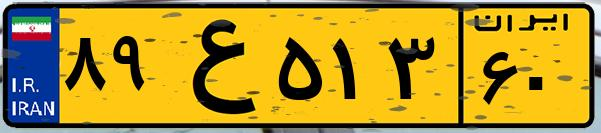0: (525, 38, 570, 115)
1: (330, 28, 385, 110)
3: (385, 28, 445, 110)
5: (270, 28, 330, 110)
6: (475, 38, 525, 113)
8: (57, 26, 110, 100)
9: (110, 28, 158, 98)
ع: (158, 12, 270, 120)
